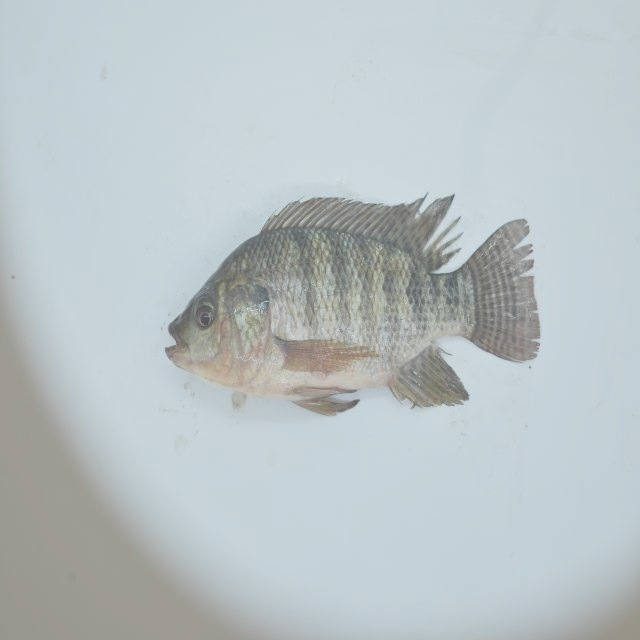Columnaris Disease: (146, 192, 576, 418)
